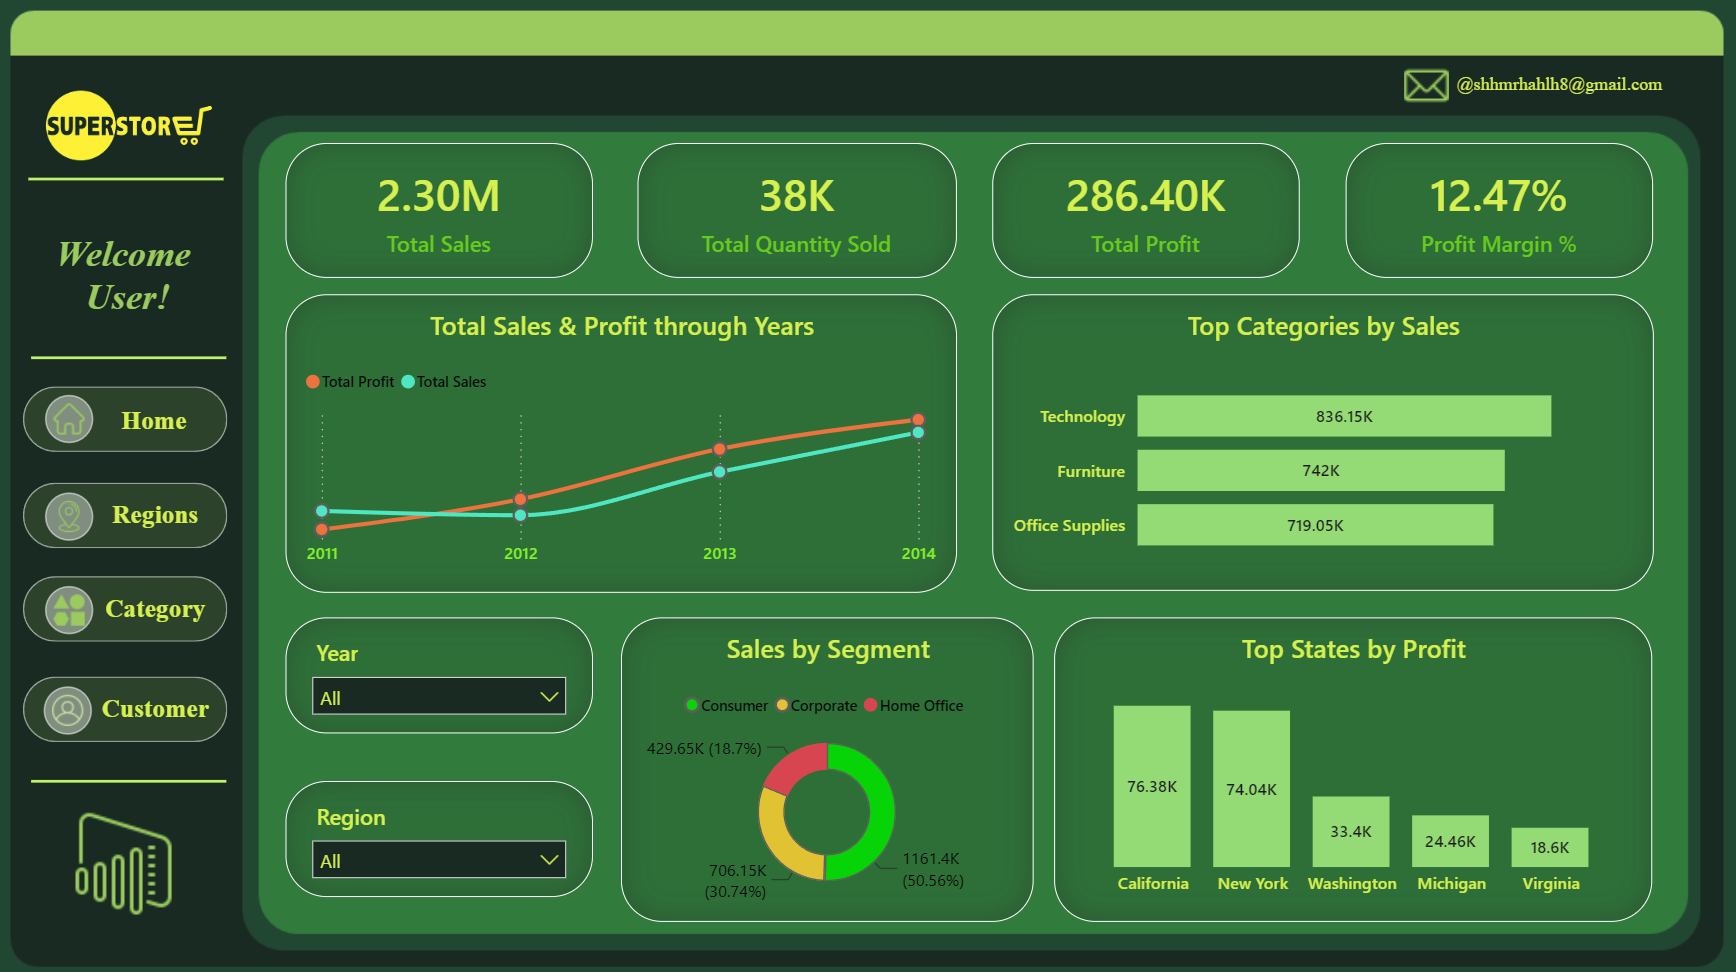

Layout of this report page (visuals, bound fields, positions):
{"tool":"powerbi","page":{"name":"Home","canvas":[1280,720],"ordinal":0},"visuals":[{"type":"shape","box":[24.8,107.6,143.1,46.8],"z":0},{"type":"shape","box":[27.6,549.3,143.1,46.8],"z":1000},{"type":"shape","box":[27.6,238.8,143.1,46.8],"z":2000},{"type":"image","box":[13.8,27.6,171.1,127],"z":3000},{"type":"textbox","box":[23.5,165.6,150,75.7],"z":4000},{"type":"shape","box":[21.6,283.7,150,48.2],"z":5000},{"type":"shape","box":[21.6,353.9,150,48.2],"z":6000},{"type":"shape","box":[21.6,422.7,150,48.2],"z":7000},{"type":"shape","box":[21.6,495.6,150,48.2],"z":8000},{"type":"card","fields":{"Values":["Sum(Fact_Sales.Profit)"]},"box":[732.1,104.6,225.7,99.1],"z":9000},{"type":"card","fields":{"Values":["Sum(Fact_Sales.Sales)"]},"box":[213.3,104.6,225.7,99.1],"z":10000},{"type":"card","fields":{"Values":["Sum(Fact_Sales.Quantity)"]},"box":[472,104.6,234,99.1],"z":11000},{"type":"card","fields":{"Values":["Fact_Sales.Profit Margin %"]},"box":[990.9,104.6,225.7,99.1],"z":12000},{"type":"lineChart","title":"Total Sales & Profit through Years","fields":{"Category":["Dim_Order.Order_Date.Variation.Date Hierarchy.Year","Dim_Order.Order_Date.Variation.Date Hierarchy.Quarter","Dim_Order.Order_Date.Variation.Date Hierarchy.Month","Dim_Order.Order_Date.Variation.Date Hierarchy.Day"],"Y":["Sum(Fact_Sales.Profit)"],"Y2":["Sum(Fact_Sales.Sales)"]},"box":[213.5,216.1,492.4,218.6],"z":13000},{"type":"donutChart","title":"Sales by Segment","fields":{"Category":["Dim_Customer.Segment"],"Y":["Sum(Fact_Sales.Sales)"]},"box":[459.8,452.2,302.7,223.6],"z":14000},{"type":"barChart","title":"Top Categories by Sales","fields":{"Category":["Dim_Product.Category"],"Y":["Sum(Fact_Sales.Sales)"]},"box":[732.3,216.1,484.9,217.3],"z":15000},{"type":"clusteredColumnChart","title":"Top States by Profit","fields":{"Category":["Dim_Location.State"],"Y":["Sum(Fact_Sales.Profit)"]},"box":[777.6,452.2,438.4,223.6],"z":16000},{"type":"slicer","fields":{"Values":["Dim_Order.Order_Date.Variation.Date Hierarchy.Year"]},"box":[213.3,452.8,225.7,85.3],"z":17000},{"type":"slicer","fields":{"Values":["Dim_Location.Region"]},"box":[213.5,572.8,225.7,85.3],"z":18000},{"type":"image","box":[37.4,284.1,35.8,45.4],"z":19000},{"type":"image","box":[37.4,355.6,35.8,45.4],"z":20000},{"type":"image","box":[37.4,424.4,35.8,45.4],"z":21000},{"type":"image","box":[36.8,498.4,35.8,45.4],"z":22000},{"type":"textbox","box":[72.6,291.9,89.5,33],"z":23000},{"type":"textbox","box":[73.9,362.1,89.5,33],"z":24000},{"type":"textbox","box":[73.9,430.9,89.5,33],"z":25000},{"type":"textbox","box":[73.9,503.9,89.5,33],"z":26000},{"type":"image","box":[1030.8,46.8,39.9,33],"z":27000},{"type":"textbox","box":[1060.8,46.2,174.8,33],"z":28000},{"type":"image","box":[26.2,590.7,139,85.3],"z":30000}]}

Visuals, with their boxes in screenshot pixels (x1, y1, x2, y2), scaled from the page's 1280x720 canvas onto the 1736x972 screenshot:
shape: <bbox>34, 145, 228, 208</bbox>
shape: <bbox>37, 742, 232, 805</bbox>
shape: <bbox>37, 322, 232, 386</bbox>
image: <bbox>19, 37, 251, 209</bbox>
textbox: <bbox>32, 224, 235, 326</bbox>
shape: <bbox>29, 383, 233, 448</bbox>
shape: <bbox>29, 478, 233, 543</bbox>
shape: <bbox>29, 571, 233, 636</bbox>
shape: <bbox>29, 669, 233, 734</bbox>
card - Sum(Fact_Sales.Profit): <bbox>993, 141, 1299, 275</bbox>
card - Sum(Fact_Sales.Sales): <bbox>289, 141, 595, 275</bbox>
card - Sum(Fact_Sales.Quantity): <bbox>640, 141, 958, 275</bbox>
card - Fact_Sales.Profit Margin %: <bbox>1344, 141, 1650, 275</bbox>
"Total Sales & Profit through Years" lineChart: <bbox>290, 292, 957, 587</bbox>
"Sales by Segment" donutChart: <bbox>624, 610, 1034, 912</bbox>
"Top Categories by Sales" barChart: <bbox>993, 292, 1651, 585</bbox>
"Top States by Profit" clusteredColumnChart: <bbox>1055, 610, 1649, 912</bbox>
slicer - Dim_Order.Order_Date.Variation.Date Hierarchy.Year: <bbox>289, 611, 595, 726</bbox>
slicer - Dim_Location.Region: <bbox>290, 773, 596, 888</bbox>
image: <bbox>51, 384, 99, 445</bbox>
image: <bbox>51, 480, 99, 541</bbox>
image: <bbox>51, 573, 99, 634</bbox>
image: <bbox>50, 673, 98, 734</bbox>
textbox: <bbox>98, 394, 220, 439</bbox>
textbox: <bbox>100, 489, 222, 533</bbox>
textbox: <bbox>100, 582, 222, 626</bbox>
textbox: <bbox>100, 680, 222, 725</bbox>
image: <bbox>1398, 63, 1452, 108</bbox>
textbox: <bbox>1439, 62, 1676, 107</bbox>
image: <bbox>36, 797, 224, 913</bbox>
